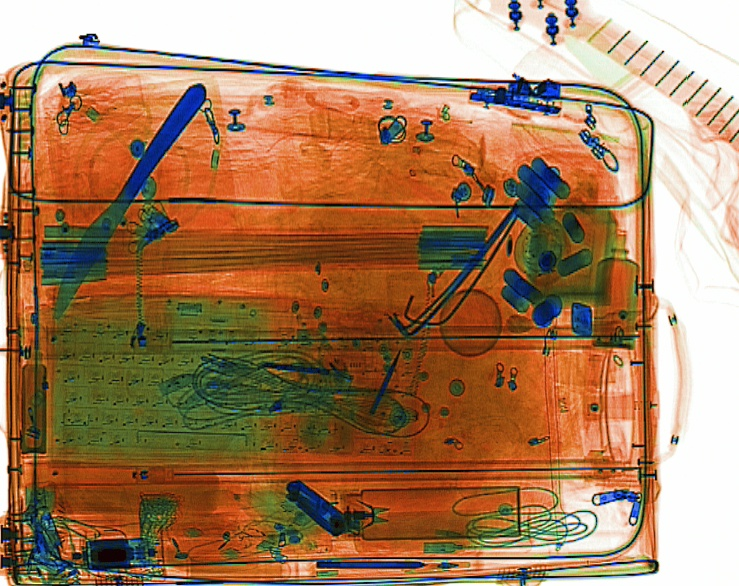knife: (48, 80, 208, 322)
